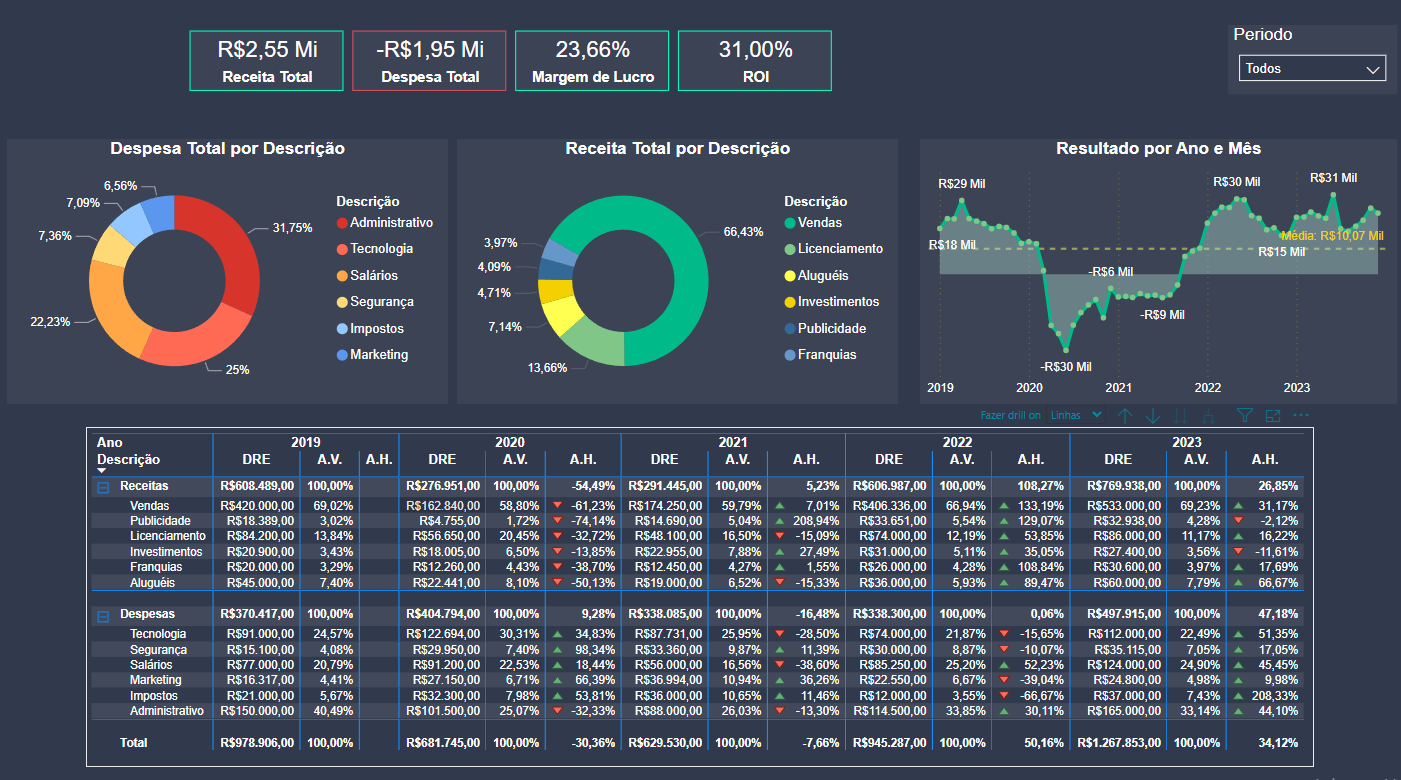

What the dashboard file says about the page in this screenshot:
{"tool":"powerbi","page":{"name":"Dashboard","canvas":[1280,720],"ordinal":0},"visuals":[{"type":"donutChart","fields":{"Category":["DadosFinanceiros.Componente"],"Y":["Indicadores Financeiros.Receita Total"]},"box":[418.3,128.5,401.4,240.8],"z":0},{"type":"lineChart","title":"Resultado por Ano e Mês","fields":{"Category":["Calendário.Date.Variation.Hierarquia de datas.Ano","Calendário.Date.Variation.Hierarquia de datas.Mês"],"Y":["Indicadores Financeiros.Lucro Líquido"]},"box":[839.2,128.5,434.4,240.8],"z":1000},{"type":"cardVisual","fields":{"Data":["Indicadores Financeiros.Receita Total","Indicadores Financeiros.Despesa Total¹","Indicadores Financeiros.Margem de Lucro","Indicadores Financeiros.ROI"]},"box":[169.9,24.5,595.8,65.9],"z":3000},{"type":"donutChart","fields":{"Category":["DadosFinanceiros.Componente"],"Y":["Indicadores Financeiros.Despesa Total"]},"box":[9.3,128.5,401.4,240.8],"z":4000},{"type":"pivotTable","fields":{"Rows":["DadosFinanceiros.Tipo","DadosFinanceiros.Componente"],"Values":["Sum(DadosFinanceiros.Valor)","Analise.A.V.","Analise.A.H."],"Columns":["Calendário.Date.Variation.Hierarquia de datas.Ano","Calendário.Date.Variation.Hierarquia de datas.Mês"]},"box":[81.1,390.4,1116.3,308.5],"z":5000},{"type":"slicer","title":"Periodo","fields":{"Values":["Calendário.Date.Variation.Hierarquia de datas.Ano","Calendário.Date.Variation.Hierarquia de datas.Mês"]},"box":[1118.9,24.5,153.8,62.5],"z":6000}]}

Visuals, with their boxes in screenshot pixels (x1, y1, x2, y2), scaled from the page's 1280x720 canvas onto the 1401x780 screenshot:
donutChart - DadosFinanceiros.Componente x Indicadores Financeiros.Receita Total: box=[458, 139, 897, 400]
"Resultado por Ano e Mês" lineChart: box=[919, 139, 1394, 400]
cardVisual - Indicadores Financeiros.Receita Total x Indicadores Financeiros.Despesa Total¹: box=[186, 27, 838, 98]
donutChart - DadosFinanceiros.Componente x Indicadores Financeiros.Despesa Total: box=[10, 139, 450, 400]
pivotTable - DadosFinanceiros.Tipo x DadosFinanceiros.Componente: box=[89, 423, 1311, 757]
"Periodo" slicer: box=[1225, 27, 1393, 94]
